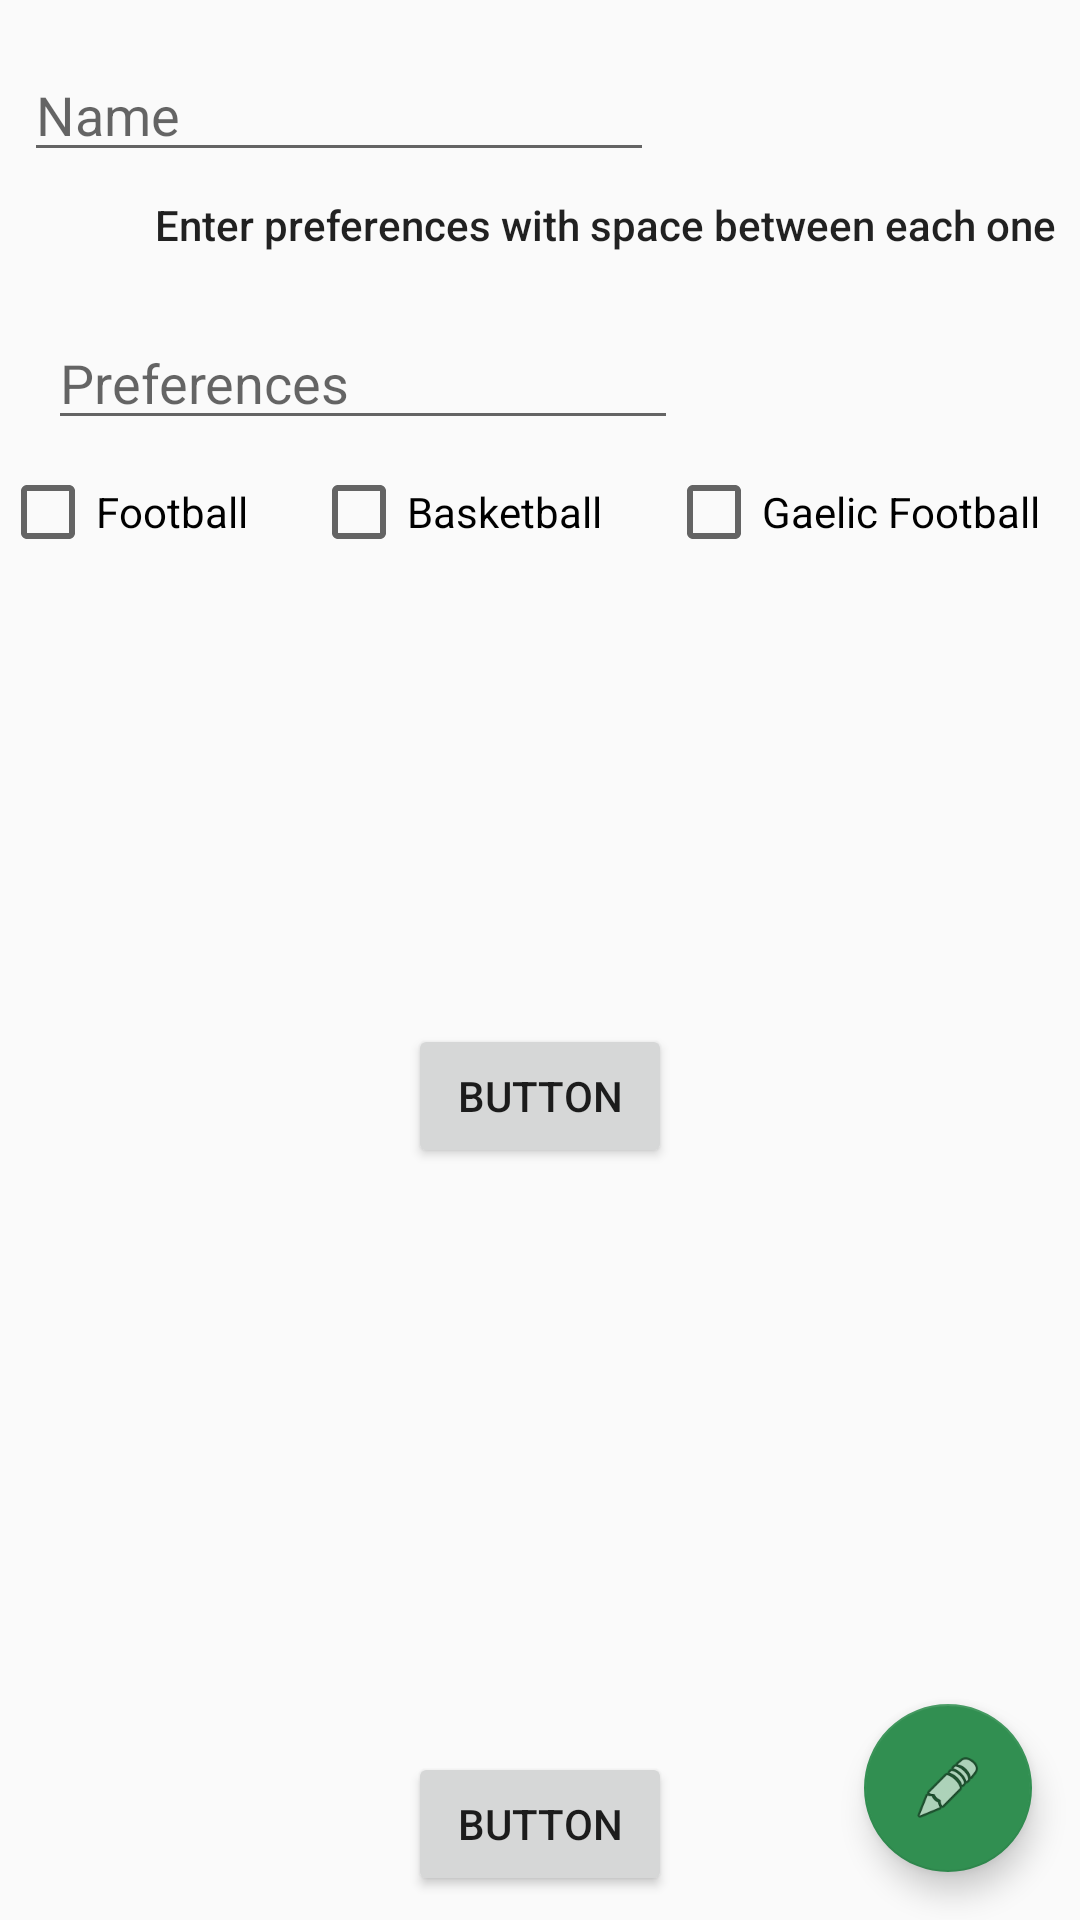

Point at icon controls on the screen. Image size 1080x1920, points as (x=x, y=y).
edit: (x=948, y=1788)
